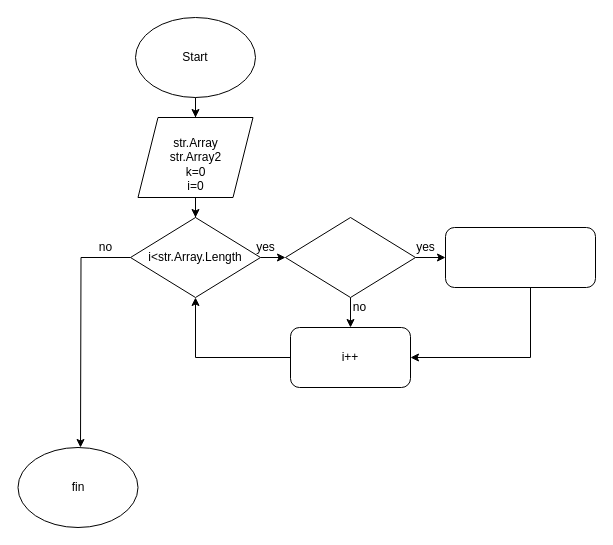
Image size: 613x545. Some labels were removed from this diagram. The shapes that lost their labels are listed below. From the top down, each one's centre as x and y in pixels, then its label:
At (350,257): "str.Array[i]<4".
At (520,257): "str.Array2[k]=str.Array2[i] k++".
